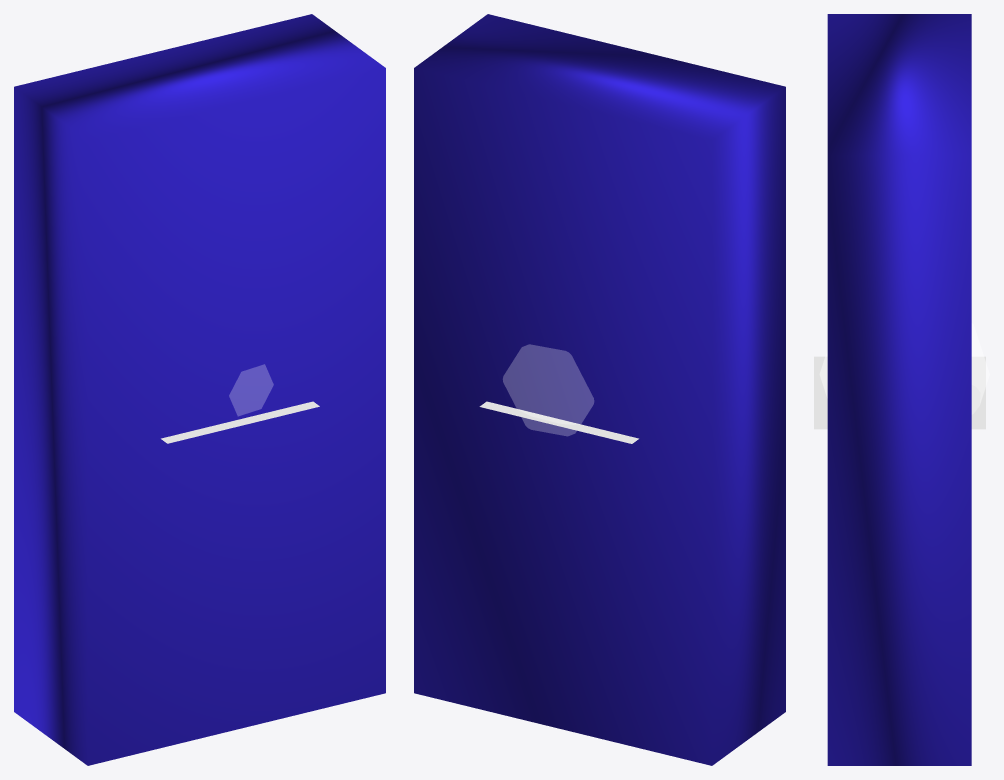
Rendered from coolrenderdome.glb.
The picture shows the model from 3 angles, left to right: view 1: azimuth 30°, elevation 25°; view 2: azimuth 150°, elevation 25°; view 3: azimuth 270°, elevation 25°; orthographic projection. The views are drawn at different scales.
Visible parts, largest first — view 1: ObelisktheTormentor, Looking Glass, Plane; view 2: ObelisktheTormentor, Looking Glass, Plane; view 3: ObelisktheTormentor, Plane, Looking Glass.
Part boxes in pixels (x1,y1,x2,y2): ObelisktheTormentor: [14, 14, 385, 765]; Looking Glass: [229, 364, 273, 415]; Plane: [161, 401, 319, 443]; ObelisktheTormentor: [414, 14, 785, 765]; Looking Glass: [503, 344, 593, 435]; Plane: [479, 401, 638, 443]; ObelisktheTormentor: [827, 14, 971, 765]; Plane: [814, 356, 985, 429]; Looking Glass: [820, 323, 989, 413].
Size of the model in its own units: 143 by 287 by 75.01.
